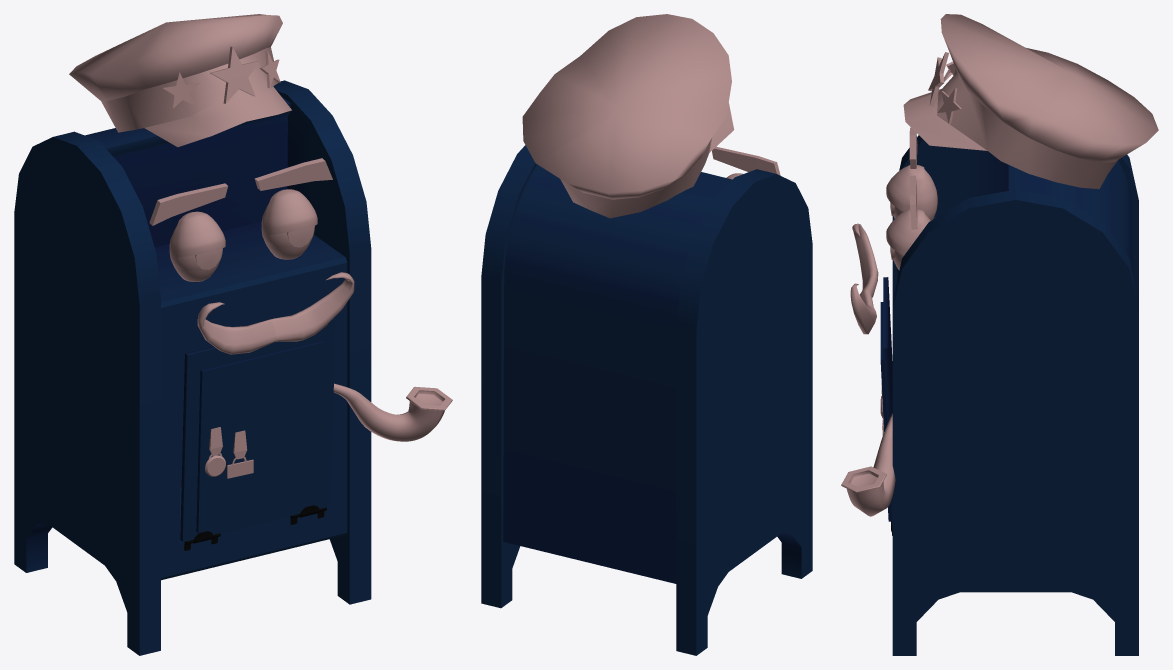
Rendered from Veterano.fbx.
3 views of the same model, side by side, from view 1: azimuth 30°, elevation 25°; view 2: azimuth 150°, elevation 25°; view 3: azimuth 270°, elevation 25° (orthographic). The views are drawn at different scales.
Parts seen in each view (by area): view 1: Cuerpo_de_Veterano, Puerta_Boca, Sombrero_de_Capitan, Bigote1, Pipa, Parpado_Izquierda, Parpado_Derecho, Ceja_Izquierda, Ceja_Derecha, Ojo_Izquierdo, Ojo_Derecho; view 2: Cuerpo_de_Veterano, Sombrero_de_Capitan, Ceja_Izquierda; view 3: Cuerpo_de_Veterano, Sombrero_de_Capitan, Pipa, Bigote1, Puerta_Boca, Parpado_Derecho, Parpado_Izquierda, Ojo_Izquierdo.
Boxes of the visible parts, x1,y1,x2,y2 form: Cuerpo_de_Veterano: (14,80,371,655); Puerta_Boca: (180,318,335,544); Sombrero_de_Capitan: (69,14,291,147); Bigote1: (197,272,354,354); Pipa: (333,383,452,441); Parpado_Izquierda: (173,211,225,257); Parpado_Derecho: (265,189,317,235); Ceja_Izquierda: (149,183,228,225); Ceja_Derecha: (254,158,332,190); Ojo_Izquierdo: (169,226,222,281); Ojo_Derecho: (261,204,314,259); Cuerpo_de_Veterano: (481,145,812,655); Sombrero_de_Capitan: (522,14,734,218); Ceja_Izquierda: (712,146,780,175); Cuerpo_de_Veterano: (892,135,1138,655); Sombrero_de_Capitan: (903,14,1158,189); Pipa: (841,413,895,516); Bigote1: (850,223,878,334); Puerta_Boca: (880,277,892,531); Parpado_Derecho: (886,209,924,255); Parpado_Izquierda: (886,165,924,211); Ojo_Izquierdo: (893,169,937,220).
Size of the model in its own units: 4.05 by 7.7 by 3.85.
